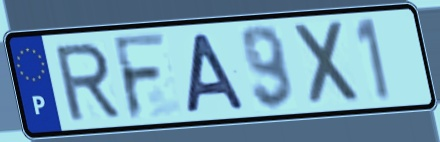1: (354, 15, 394, 104)
9: (239, 23, 297, 114)
A: (184, 30, 250, 117)
F: (109, 30, 171, 123)
R: (51, 39, 123, 123)
X: (290, 18, 365, 110)
